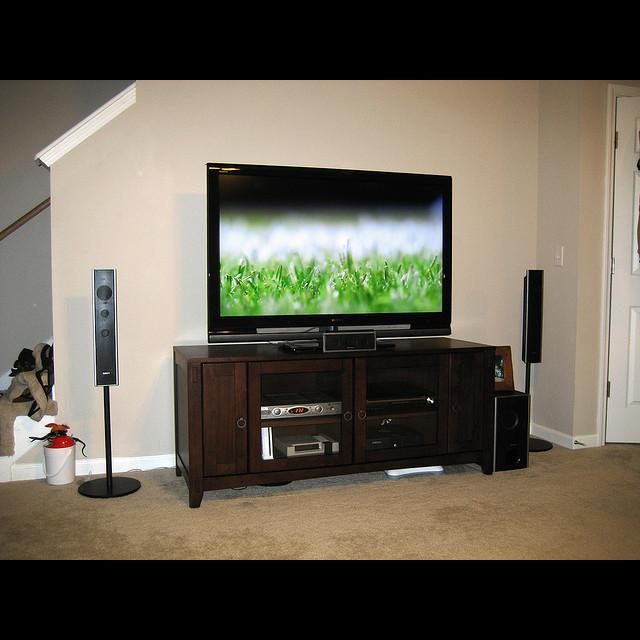Flat-Panel-TV: (209, 162, 450, 343)
